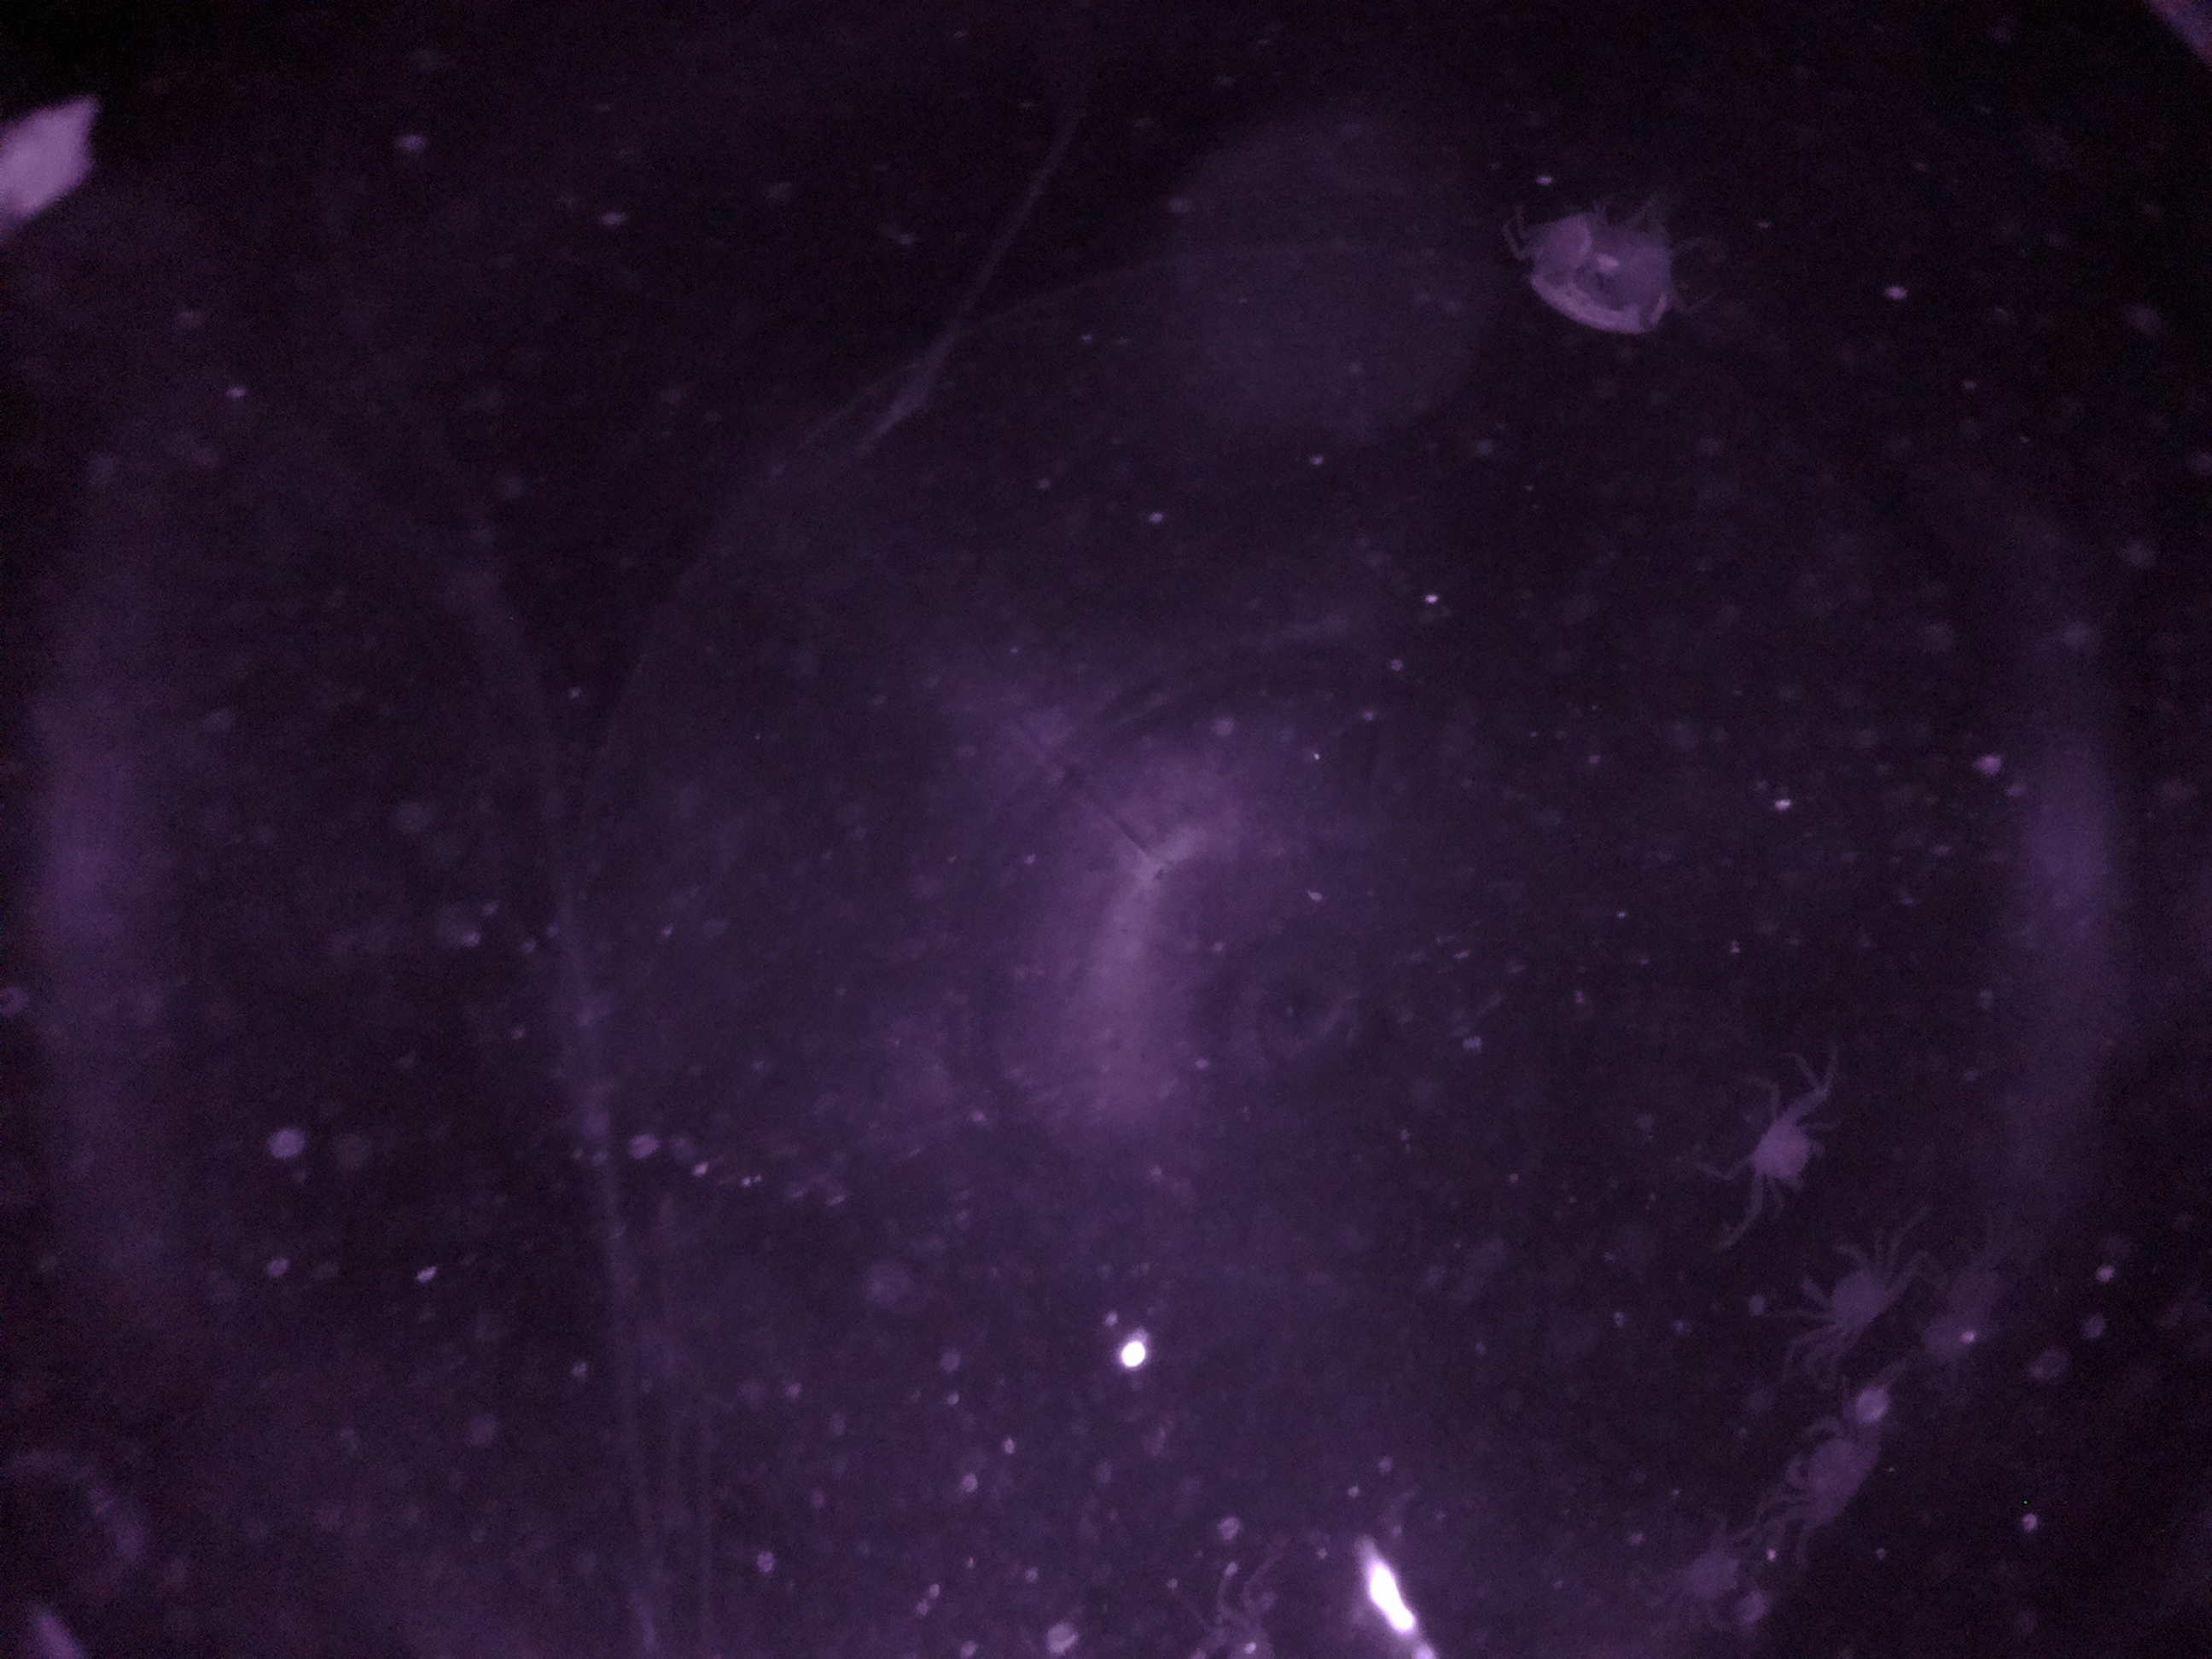Crab: (1782, 1222, 1919, 1368), (1723, 1094, 1851, 1222)
